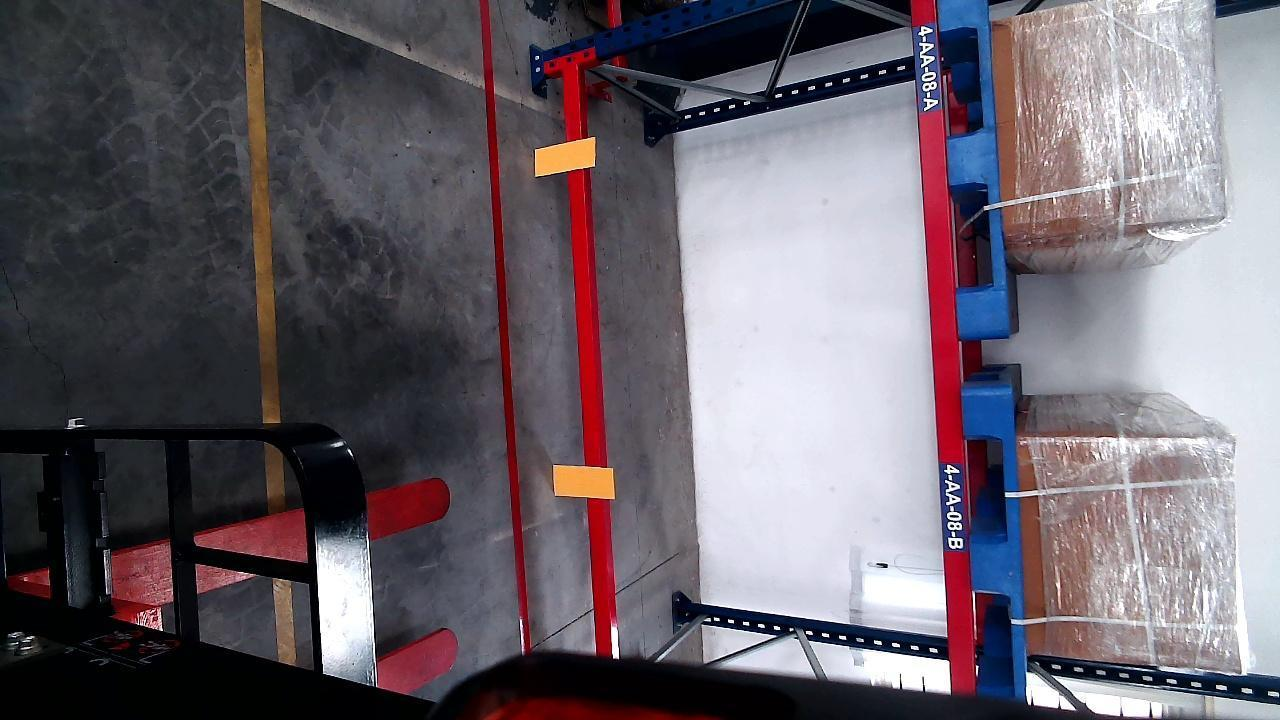h_rack: (911, 0, 971, 698), (563, 60, 614, 649)
orange_strip: (533, 137, 596, 176), (553, 464, 615, 498)
red_line: (472, 0, 536, 660)
small_pallet: (936, 1, 1016, 337), (966, 392, 1026, 687)
yellow_line: (246, 0, 279, 425)
